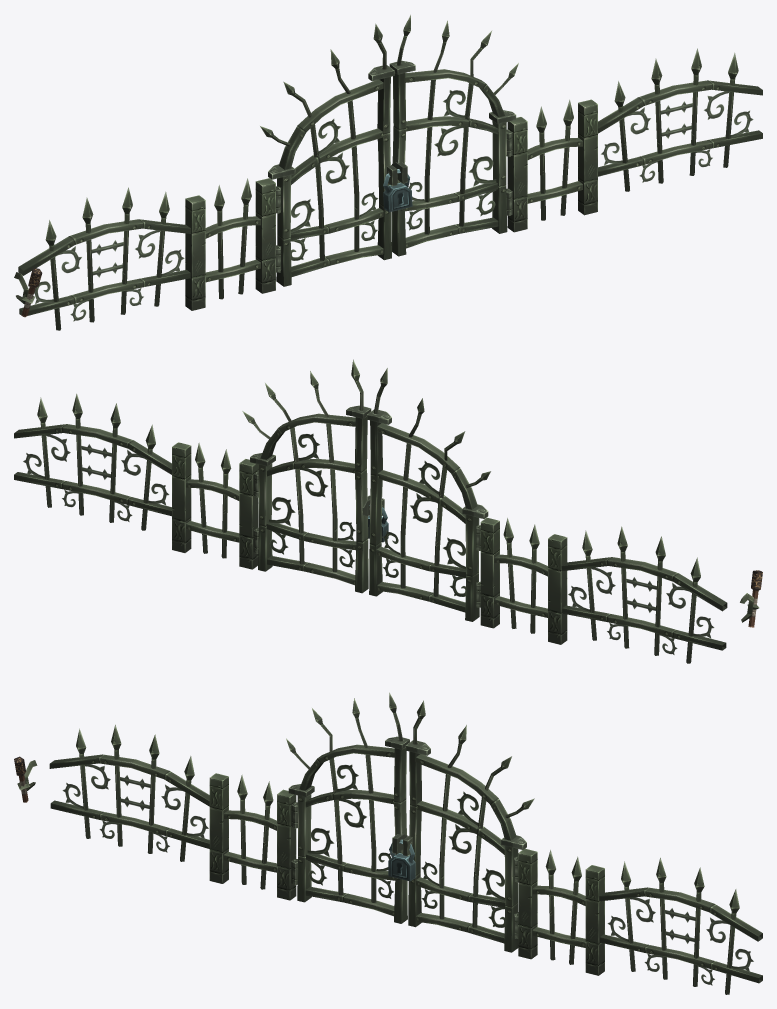
3 views of the same model, one above another, from view 1: azimuth 30°, elevation 25°; view 2: azimuth 150°, elevation 25°; view 3: azimuth 330°, elevation 25° (orthographic). The views are drawn at different scales.
Parts seen in each view (by area): view 1: gates_01_003, gates_01_002, fence_decor_02_001, fence_decor_02, fence_02_003, fence_02_002, pillar_02_003, pillar_02_002, lock_01_001, torch_002; view 2: gates_01_003, gates_01_002, fence_decor_02_001, fence_decor_02, fence_02_003, fence_02_002, pillar_02_003, pillar_02_002, torch_002; view 3: gates_01_002, gates_01_003, fence_decor_02, fence_decor_02_001, fence_02_003, fence_02_002, pillar_02_002, pillar_02_003, lock_01_001, torch_002.
Boxes of the visible parts, x1=… form: gates_01_003: x1=260, y1=23, x2=397, y2=286; gates_01_002: x1=389, y1=15, x2=518, y2=256; fence_decor_02_001: x1=18, y1=187, x2=190, y2=330; fence_decor_02: x1=598, y1=48, x2=762, y2=191; fence_02_003: x1=185, y1=178, x2=260, y2=310; fence_02_002: x1=507, y1=99, x2=582, y2=232; pillar_02_003: x1=255, y1=178, x2=275, y2=293; pillar_02_002: x1=578, y1=99, x2=597, y2=215; lock_01_001: x1=383, y1=169, x2=412, y2=212; torch_002: x1=14, y1=268, x2=42, y2=317; gates_01_003: x1=367, y1=368, x2=490, y2=621; gates_01_002: x1=242, y1=359, x2=371, y2=593; fence_decor_02_001: x1=561, y1=526, x2=727, y2=663; fence_decor_02: x1=14, y1=393, x2=171, y2=530; fence_02_003: x1=494, y1=518, x2=567, y2=644; fence_02_002: x1=186, y1=442, x2=258, y2=569; pillar_02_003: x1=480, y1=517, x2=499, y2=628; pillar_02_002: x1=172, y1=442, x2=191, y2=552; torch_002: x1=740, y1=570, x2=762, y2=627; gates_01_002: x1=403, y1=700, x2=534, y2=952; gates_01_003: x1=286, y1=692, x2=409, y2=923; fence_decor_02: x1=599, y1=857, x2=762, y2=994; fence_decor_02_001: x1=49, y1=724, x2=209, y2=861; fence_02_003: x1=209, y1=773, x2=276, y2=889; fence_02_002: x1=518, y1=848, x2=585, y2=964; pillar_02_002: x1=585, y1=865, x2=604, y2=975; pillar_02_003: x1=277, y1=789, x2=296, y2=900; lock_01_001: x1=388, y1=839, x2=415, y2=881; torch_002: x1=14, y1=756, x2=37, y2=802.
Bounding box in the file's own units: 24.57 × 7.47 × 1.95.
Materials: 10 (10 with a texture image).
